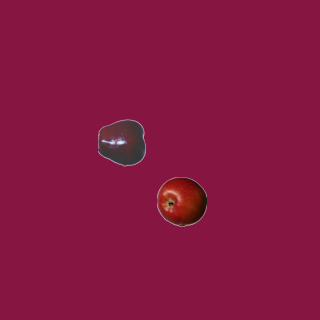Apple Braeburn: (156, 176, 206, 226)
Apple Red Delicious: (97, 117, 147, 167)
